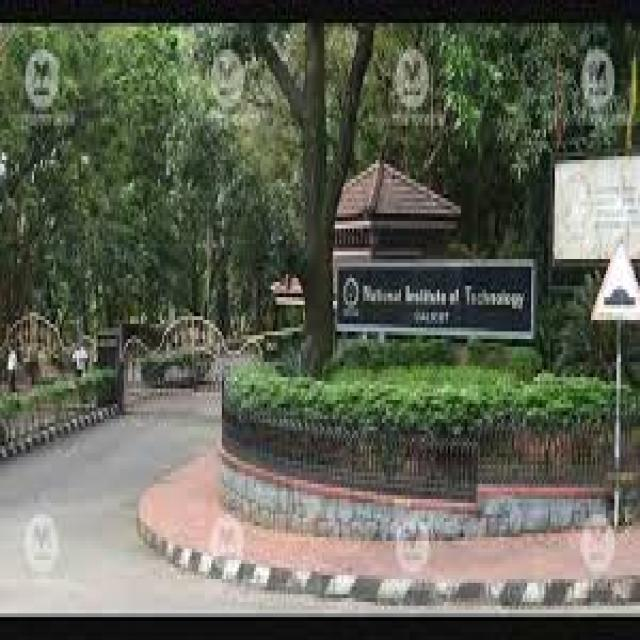gate ahead at: (126, 310, 222, 416)
